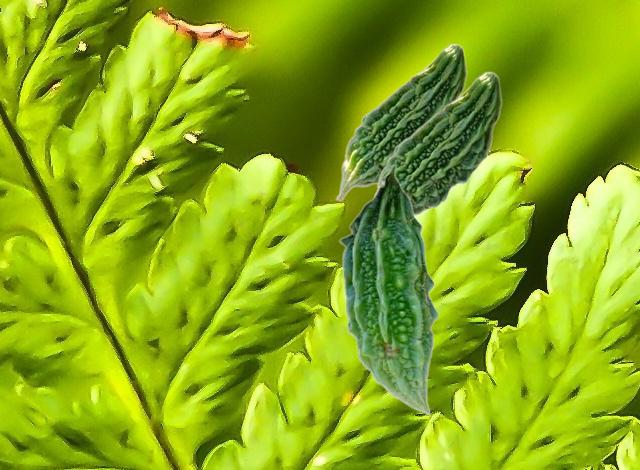ampalaya: (338, 163, 441, 416), (335, 41, 469, 202), (372, 69, 504, 217)
